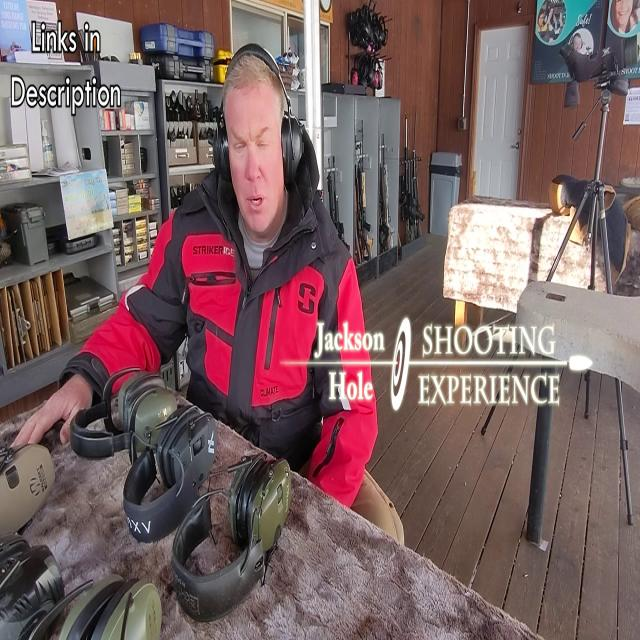earmuff: (0, 442, 58, 556), (238, 452, 294, 558), (162, 406, 220, 508), (55, 572, 127, 640), (93, 577, 165, 640), (156, 398, 200, 498), (226, 447, 266, 549), (124, 385, 178, 456), (118, 367, 166, 433), (280, 110, 306, 188), (208, 119, 232, 192)
